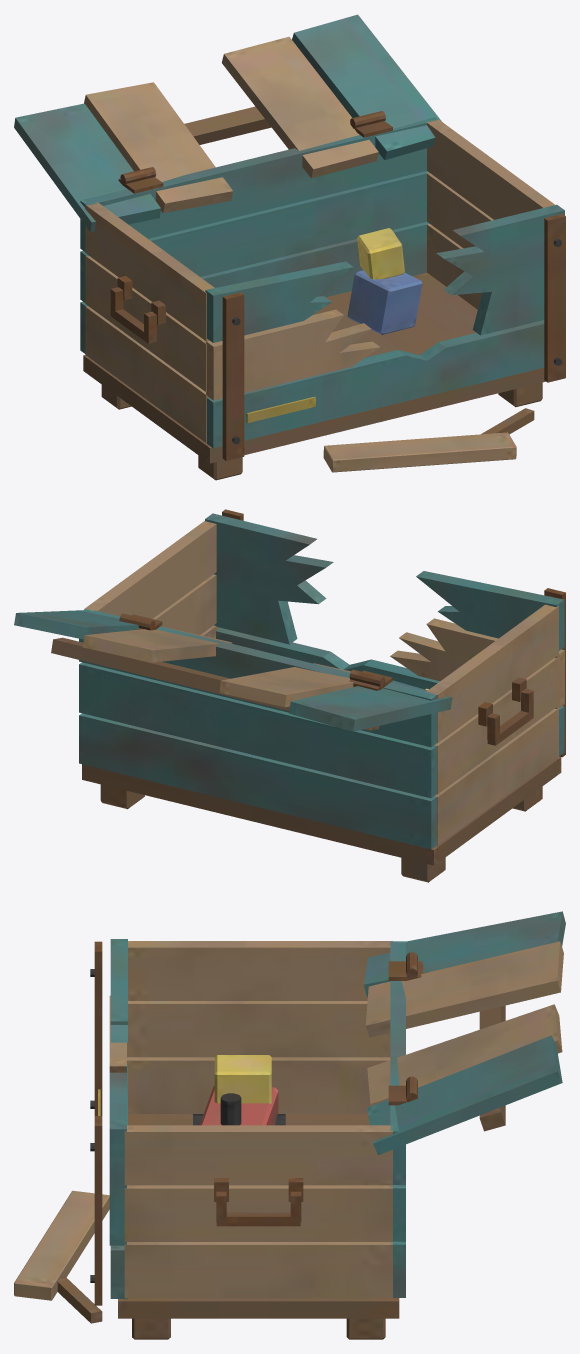
File: BR26_smashed_toy_box.glb
The picture shows the model from 3 angles, top to bottom: view 1: azimuth 30°, elevation 25°; view 2: azimuth 150°, elevation 25°; view 3: azimuth 270°, elevation 25°; orthographic projection. The views are drawn at different scales.
Visible parts, largest first — view 1: Dark exposed floor; view 2: Dark exposed floor; view 3: Dark exposed floor.
Part boxes in pixels (x1,y1,x2,y2): Dark exposed floor: [14, 14, 565, 480]; Dark exposed floor: [14, 509, 565, 882]; Dark exposed floor: [14, 911, 565, 1339].
Size of the model in its own units: 0.5366 by 0.3267 by 0.6.
10 materials, 10 textured.
